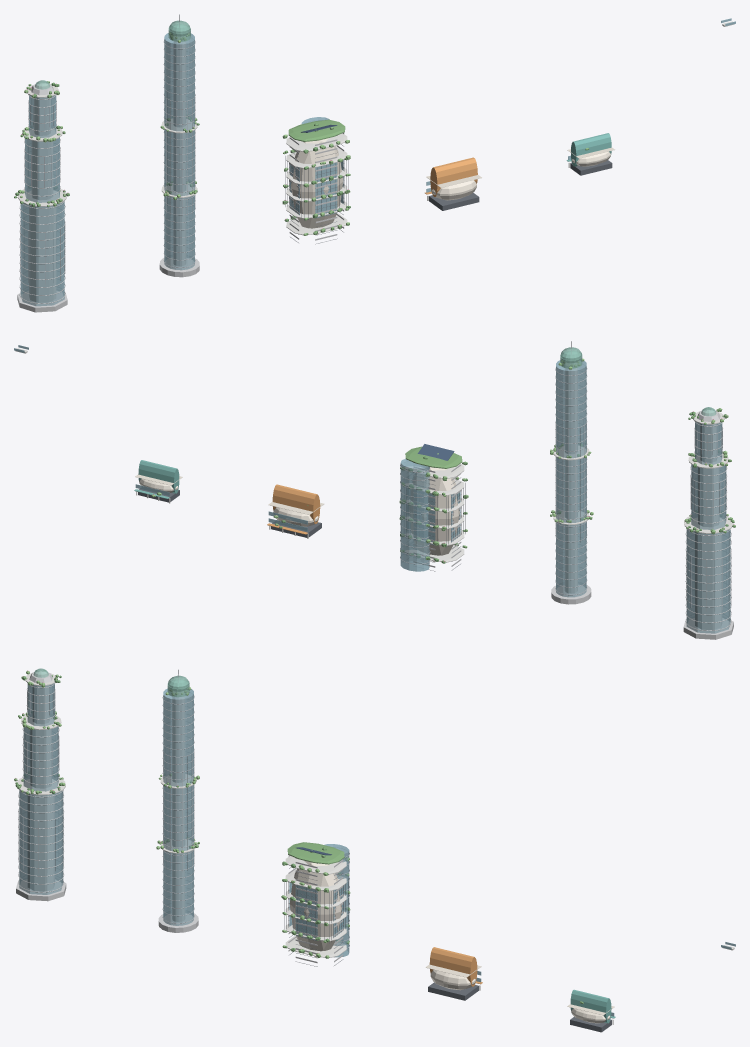
File: city_kit.glb
3 renders of one model, top to bottom at view 1: azimuth 30°, elevation 25°; view 2: azimuth 150°, elevation 25°; view 3: azimuth 330°, elevation 25°, orthographic.
Parts seen in each view (by area): view 1: skin, glasstier, core, tier, glasstier.001, body.001, glasstier.002, tier.001, barrel.001, greenroof, glass.001, barrel (+5 smaller); view 2: skin, glasstier, bay, core, tier, glasstier.001, body.001, tier.001, glasstier.002, barrel.001, barrel, glass (+4 smaller); view 3: skin, glasstier, core, tier, glasstier.001, body.001, tier.001, glasstier.002, barrel.001, greenroof, glass.001, bay (+2 smaller).
Part boxes in pixels (x1,y1,x2,y2): skin: [164, 33, 194, 270]; glasstier: [20, 201, 64, 306]; core: [173, 41, 185, 265]; tier: [29, 205, 55, 302]; glasstier.001: [25, 137, 59, 202]; body.001: [291, 138, 343, 234]; glasstier.002: [29, 94, 56, 137]; tier.001: [32, 141, 52, 199]; barrel.001: [430, 157, 477, 196]; greenroof: [288, 119, 345, 141]; glass.001: [315, 162, 337, 217]; barrel: [571, 133, 611, 166]; skin: [556, 360, 586, 597]; glasstier: [686, 529, 730, 633]; bay: [400, 459, 429, 571]; core: [565, 368, 577, 593]; tier: [695, 532, 721, 629]; glasstier.001: [691, 464, 726, 529]; body.001: [409, 467, 459, 561]; tier.001: [698, 467, 719, 526]; glasstier.002: [695, 421, 722, 464]; barrel.001: [272, 484, 320, 523]; barrel: [138, 460, 179, 493]; glass: [414, 490, 435, 544]; skin: [163, 688, 193, 925]; glasstier: [19, 789, 63, 894]; core: [172, 696, 184, 921]; tier: [28, 794, 54, 891]; glasstier.001: [23, 726, 58, 791]; body.001: [289, 860, 342, 957]; tier.001: [30, 729, 51, 788]; glasstier.002: [27, 683, 54, 726]; barrel.001: [429, 947, 477, 986]; greenroof: [287, 842, 344, 864]; glass.001: [295, 885, 317, 940]; bay: [324, 844, 349, 957].
Size of the model in its own units: 136 by 46 by 9.69.
